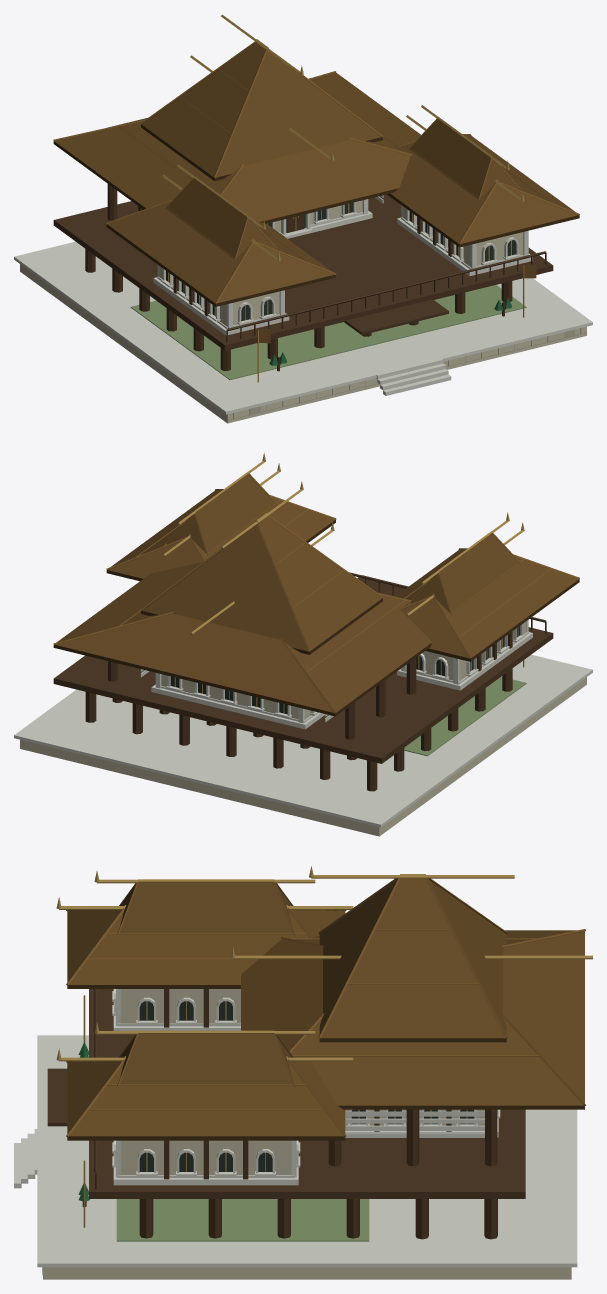
The model's file is monsoon.glb.
3 renders of one model, top to bottom at view 1: azimuth 30°, elevation 25°; view 2: azimuth 150°, elevation 25°; view 3: azimuth 270°, elevation 25°, orthographic. The views are drawn at different scales.
Visible parts, largest first — view 1: rainpavilion-roof, rainpavilion, precinct-base, inhabited-detail; view 2: rainpavilion-roof, precinct-base, rainpavilion; view 3: rainpavilion-roof, precinct-base, rainpavilion, inhabited-detail.
Part boxes in pixels (x1=…): rainpavilion-roof: x1=53, y1=14, x2=579, y2=306; rainpavilion: x1=53, y1=184, x2=553, y2=370; precinct-base: x1=14, y1=241, x2=592, y2=423; inhabited-detail: x1=228, y1=264, x2=586, y2=420; rainpavilion-roof: x1=53, y1=452, x2=579, y2=716; precinct-base: x1=14, y1=654, x2=592, y2=836; rainpavilion: x1=53, y1=572, x2=553, y2=791; rainpavilion-roof: x1=56, y1=866, x2=592, y2=1140; precinct-base: x1=37, y1=1035, x2=577, y2=1279; rainpavilion: x1=47, y1=989, x2=525, y2=1239; inhabited-detail: x1=14, y1=995, x2=89, y2=1275.
Size of the model in its own units: 23.5 by 14.52 by 25.2.
